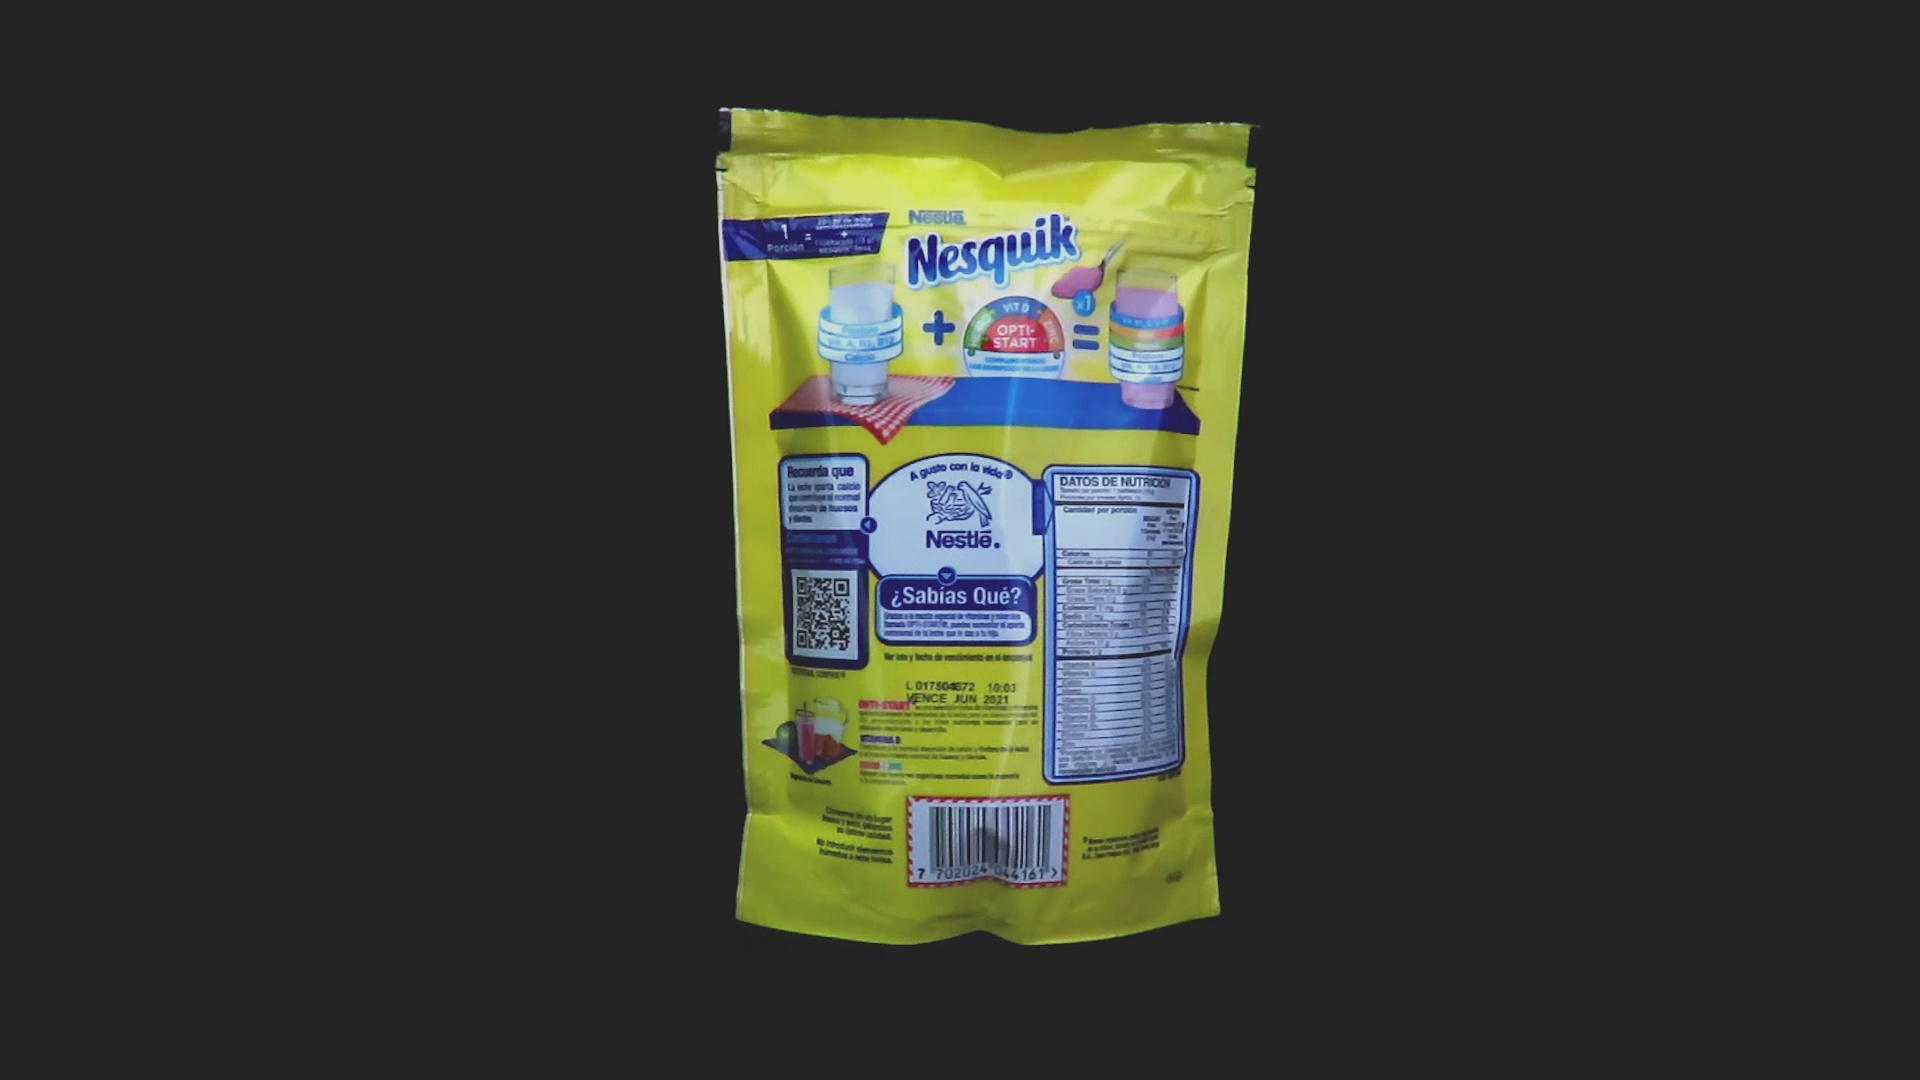COL0170305DYP20000: (709, 102, 1267, 951)
